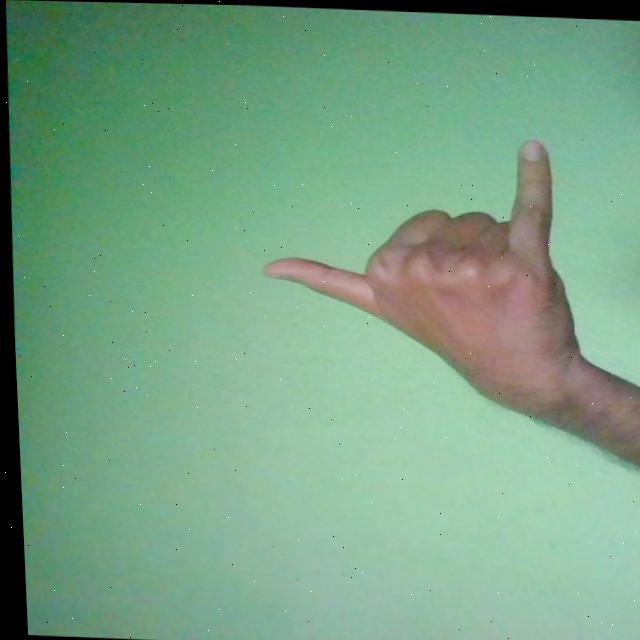Call Me: (251, 125, 580, 422)
